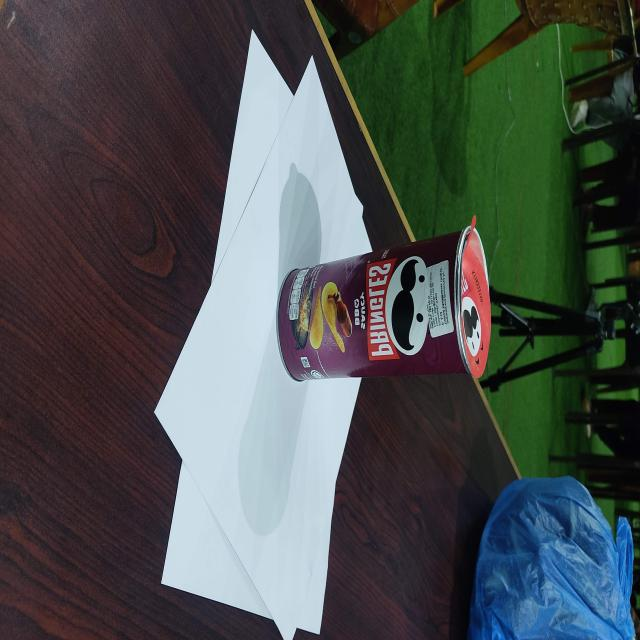Pringles: (276, 219, 492, 382)
